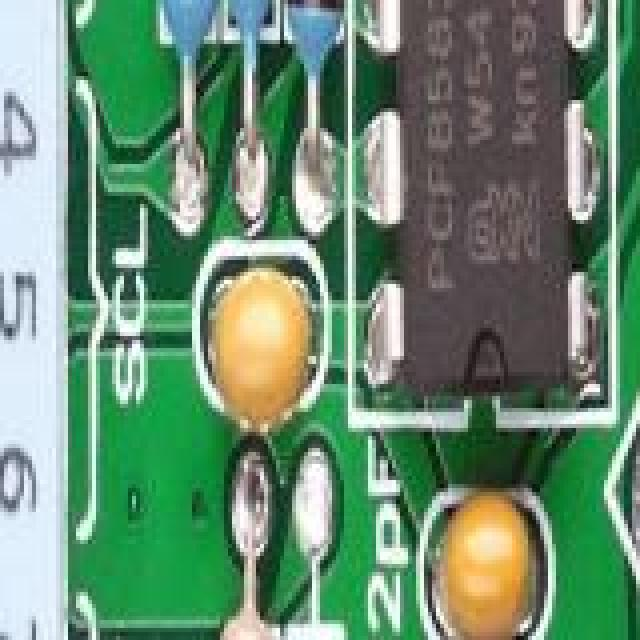capacitor: (424, 484, 548, 634), (216, 252, 312, 438)
resistor: (148, 0, 216, 108), (220, 520, 280, 640), (292, 0, 344, 108), (220, 0, 280, 60)
switch: (0, 0, 72, 640)
